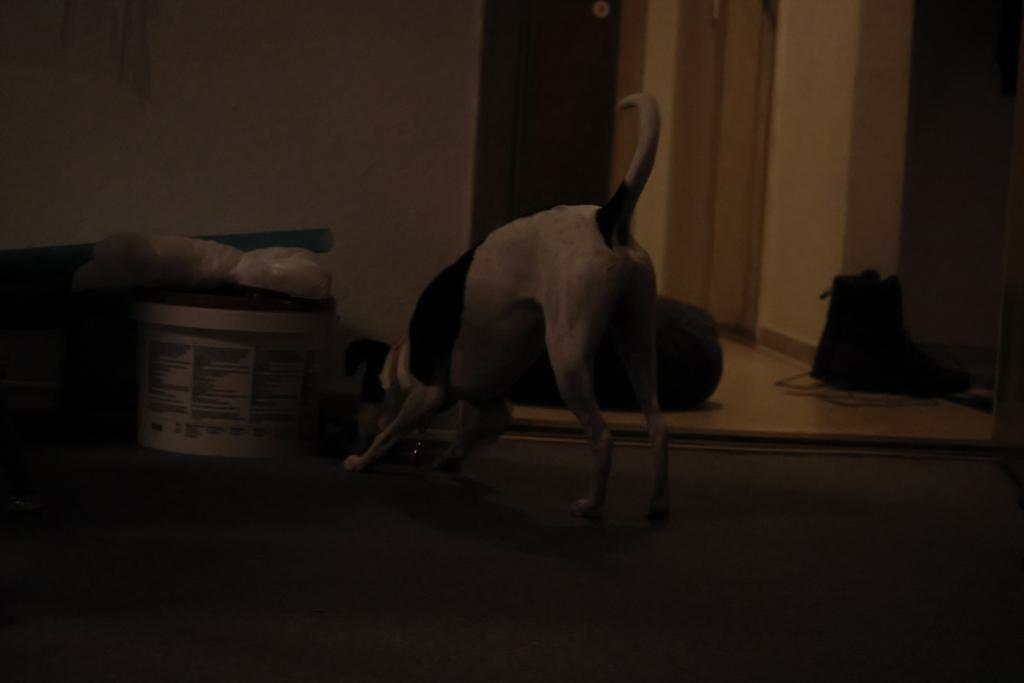Dog: (327, 72, 699, 562)
